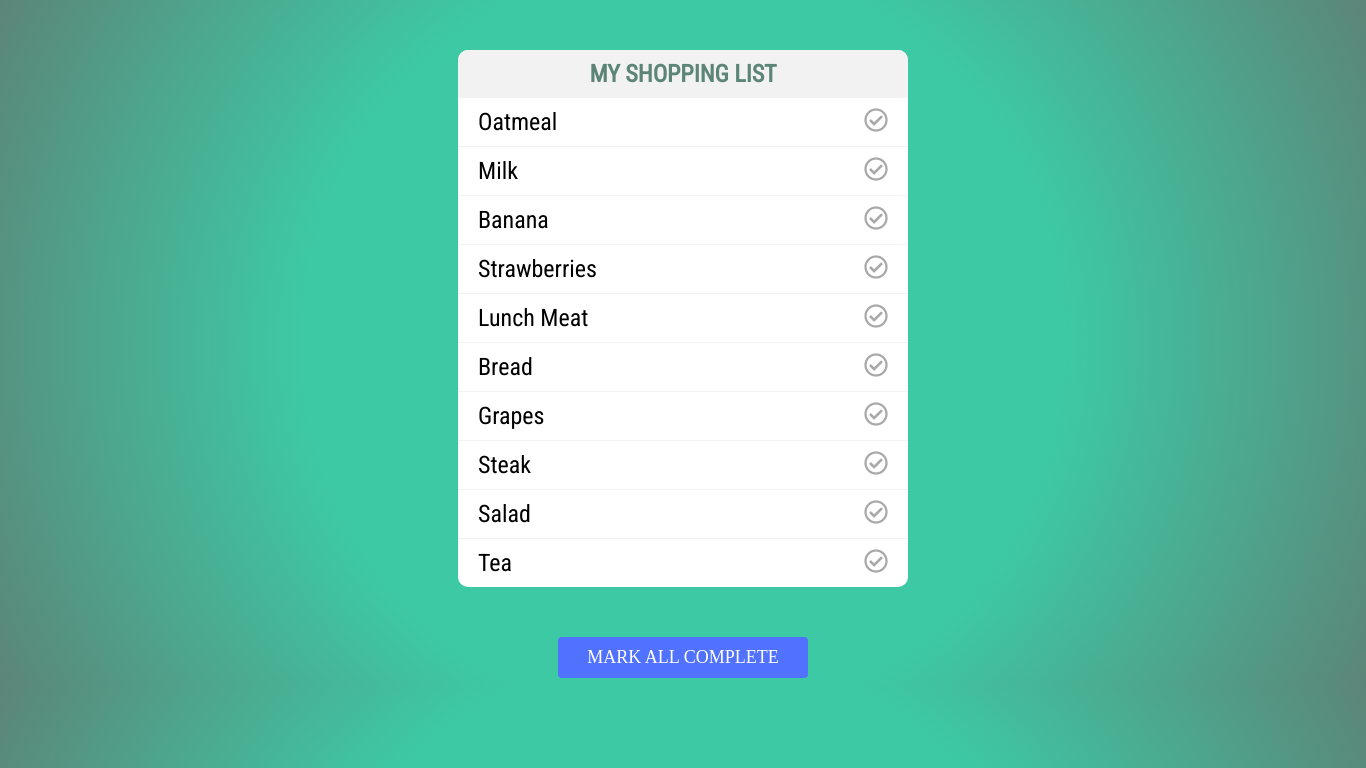
it: Shopping List Events Exercise Tests › clicking on the mark all completed button should set all items to completed
Click the link with id "toggleAll": {"x": 683, "y": 658} [558,637,808,678]
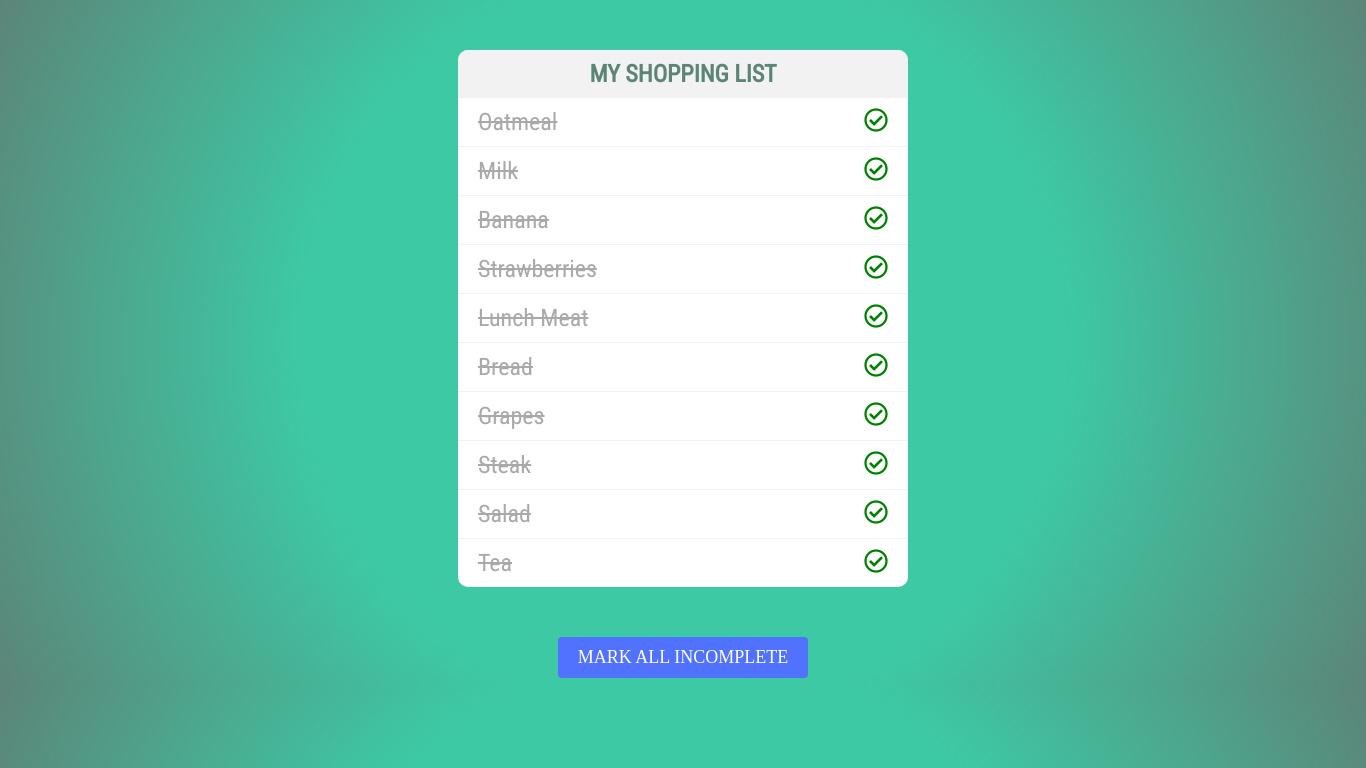
Now the link with id "toggleAll" reads "Mark All Incomplete", box [558,637,808,678]
